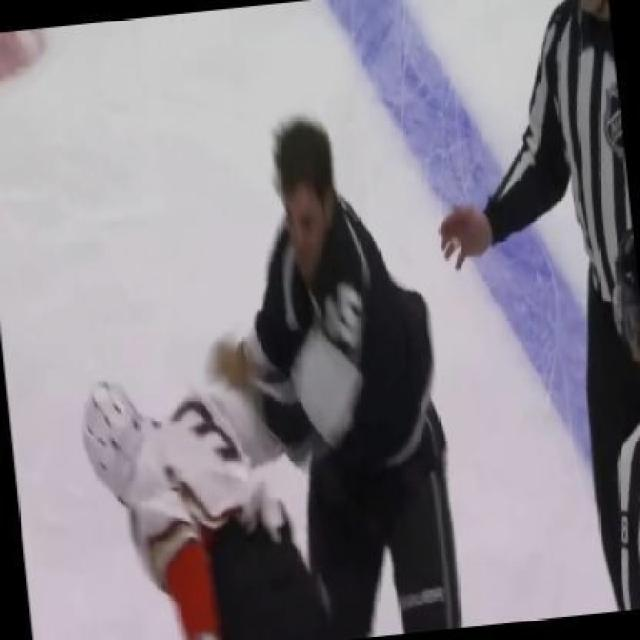fight: (68, 123, 466, 637)
non-fight: (389, 0, 638, 632)
